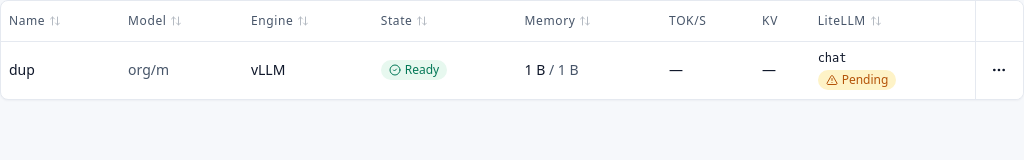
Scenario: DeploymentsTable › explains a pending registration when the last sync failed
This screenshot has width=1024, height=160.
Hover over the text "Pending" at [857, 80], box x1=818 y1=70 x2=896 y2=90
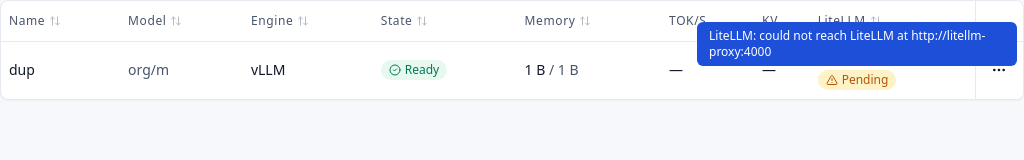
Expected: the tooltip "could not reach LiteLLM" is shown, x1=709 y1=27 x2=985 y2=60
